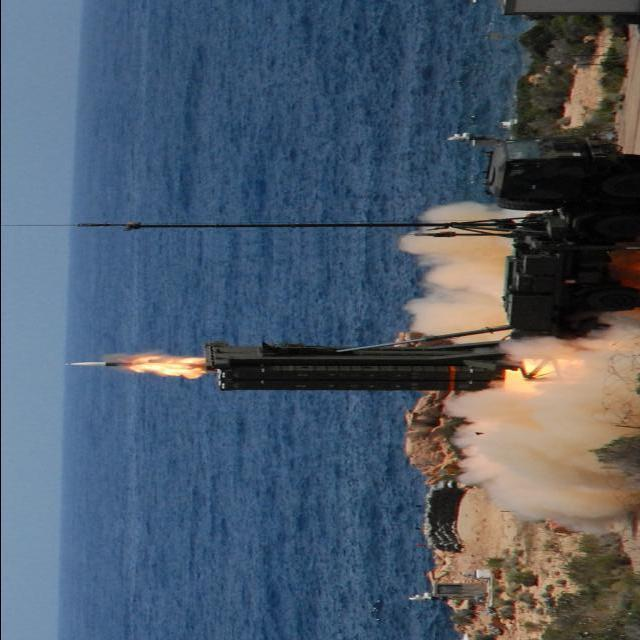missile: (64, 362, 133, 368)
